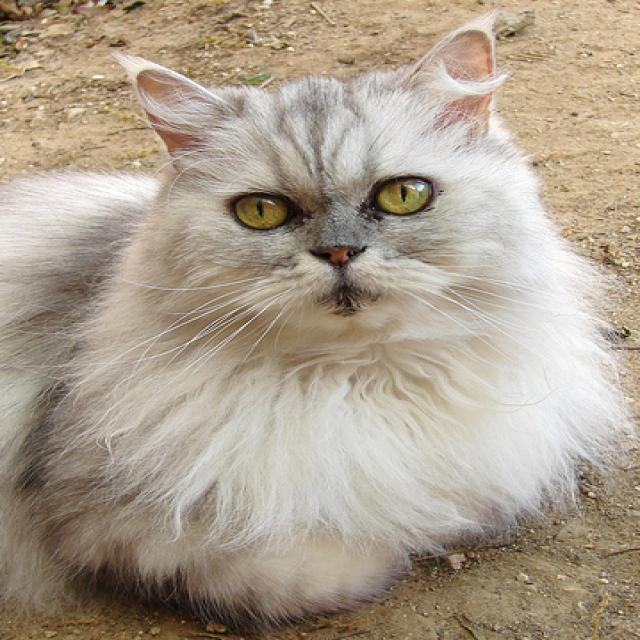Persian: (0, 17, 631, 627)
